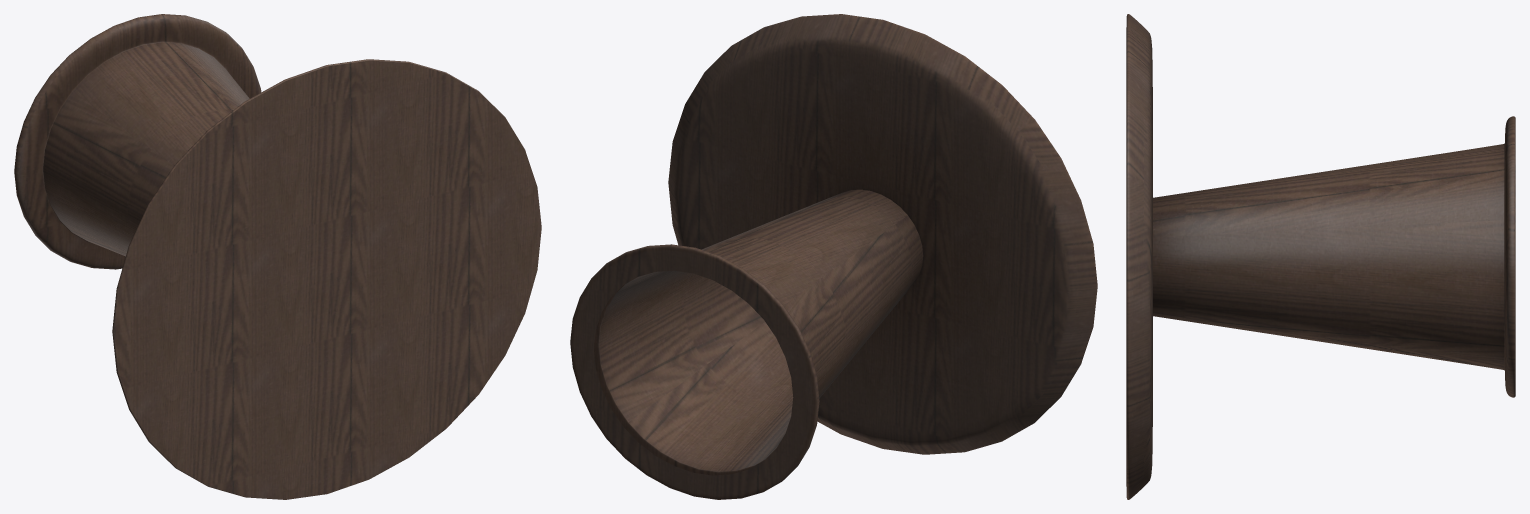
The picture shows the model from 3 angles, left to right: view 1: azimuth 30°, elevation 25°; view 2: azimuth 150°, elevation 25°; view 3: azimuth 270°, elevation 25°; orthographic projection. The views are drawn at different scales.
Bounding box in the file's own units: 0.6823 × 0.6517 × 0.5251.
